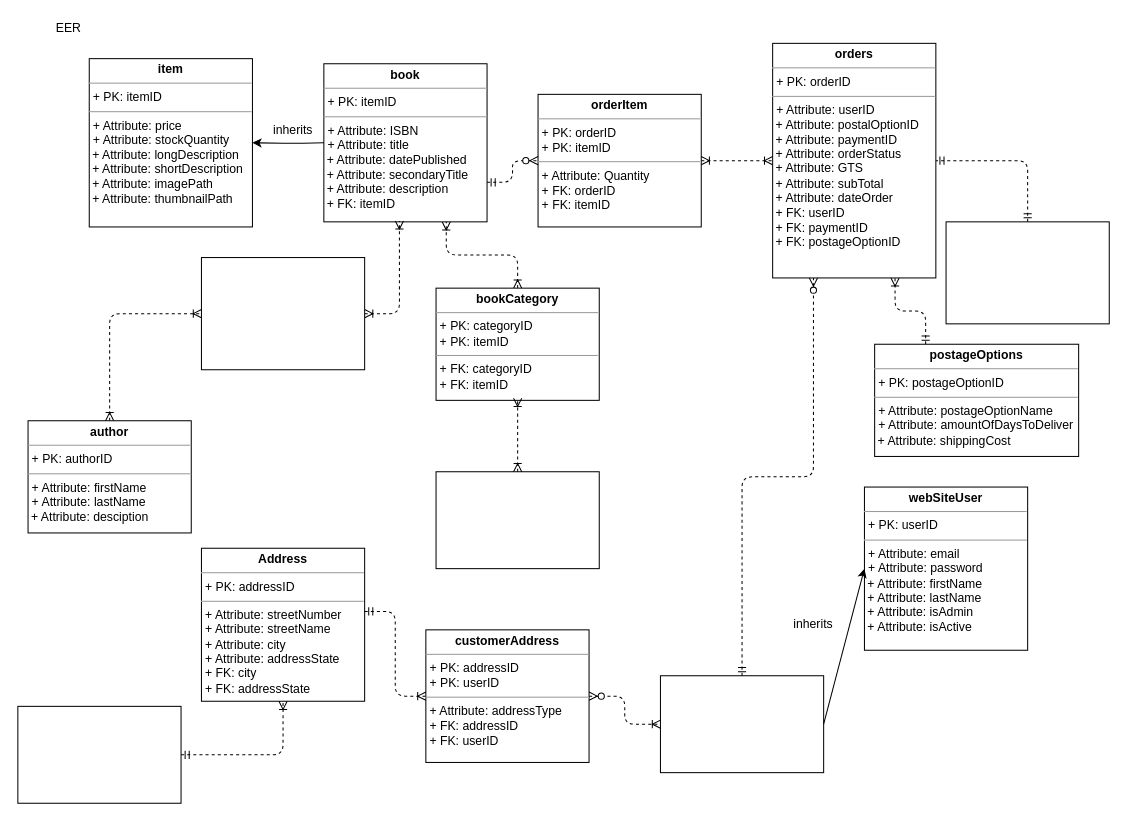
Some shapes in this 1127 by 821 pixel diagram are drawn without their labels. The shapes that lost their labels are listed below. From the top down, each one's box as (x1, y1, x2, y2) in pixels, then its label:
(945, 221, 1109, 324): payment + PK: paymentID + Attribute: datePayed + Attribute: total
(200, 257, 365, 370): bookAuthor + PK: authorID + PK: itemID + FK: authorID + FK: itemID
(435, 471, 599, 569): category + PK: categoryID + Attribute: name + Attribute: description
(659, 675, 824, 773): customer + PK: userID + Attribute: phoneNumber + FK: userID
(17, 705, 181, 803): postCode + PK: city + PK: addressState + Attribute: postCode
